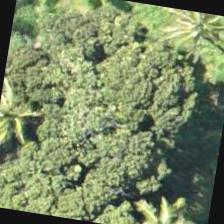Kelapa_Sawit: (137, 4, 223, 75), (0, 73, 59, 171), (119, 177, 214, 223)
